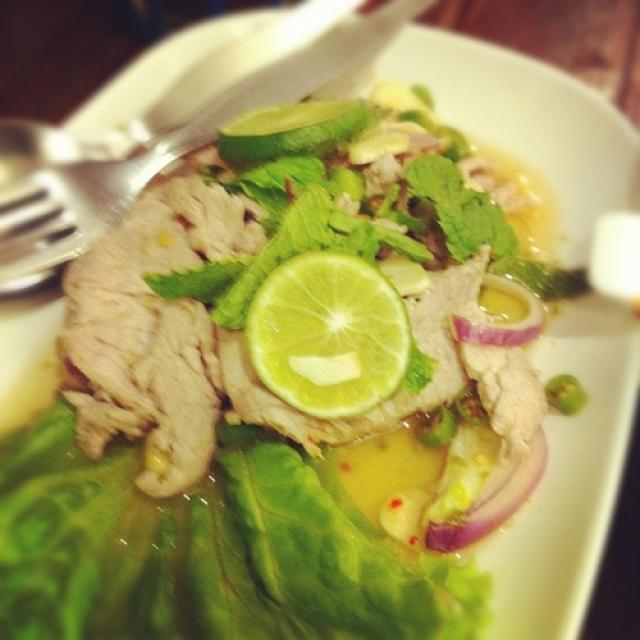猪肉菜式: (9, 16, 634, 634)
